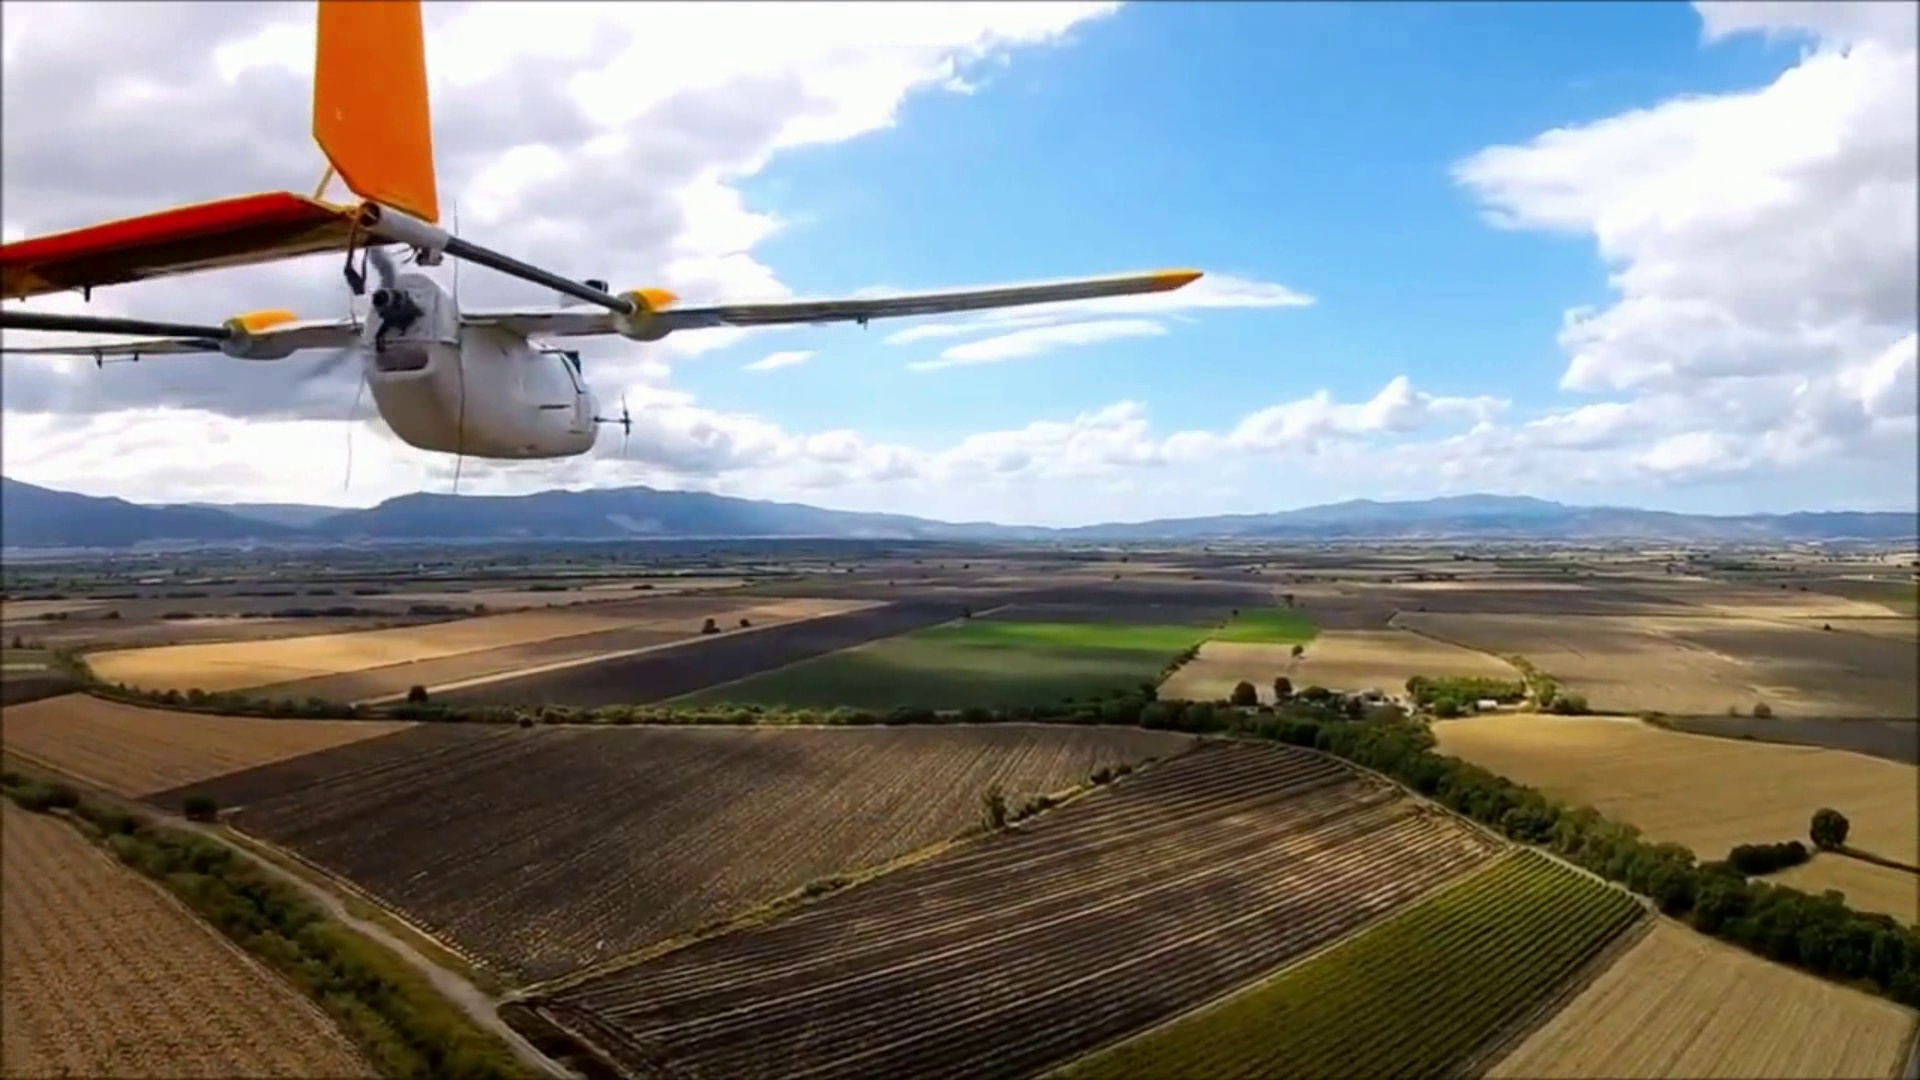airplane: (1, 4, 1204, 467)
